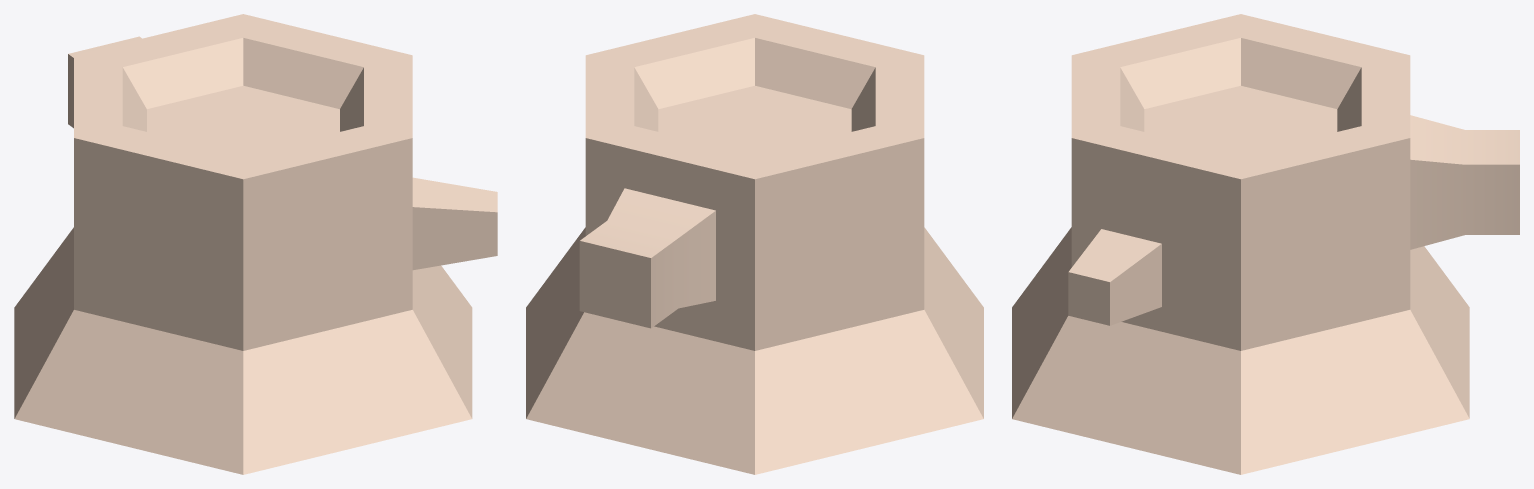
Rendered from treeStump_round_side.fbx.
3 views of the same model, side by side, from view 1: azimuth 30°, elevation 25°; view 2: azimuth 150°, elevation 25°; view 3: azimuth 270°, elevation 25° (orthographic).
Parts seen in each view (by area): view 1: treeStump_round_side; view 2: treeStump_round_side; view 3: treeStump_round_side.
Boxes of the visible parts, x1,y1,x2,y2 form: treeStump_round_side: (14,14,497,474); treeStump_round_side: (526,14,983,474); treeStump_round_side: (1012,14,1519,474).
Bounding box in the file's own units: 111 × 61.95 × 107.
